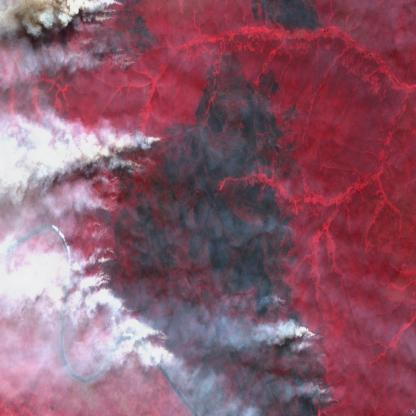fire: (78, 236, 180, 374), (83, 0, 140, 73), (294, 316, 334, 416), (121, 123, 168, 182)
